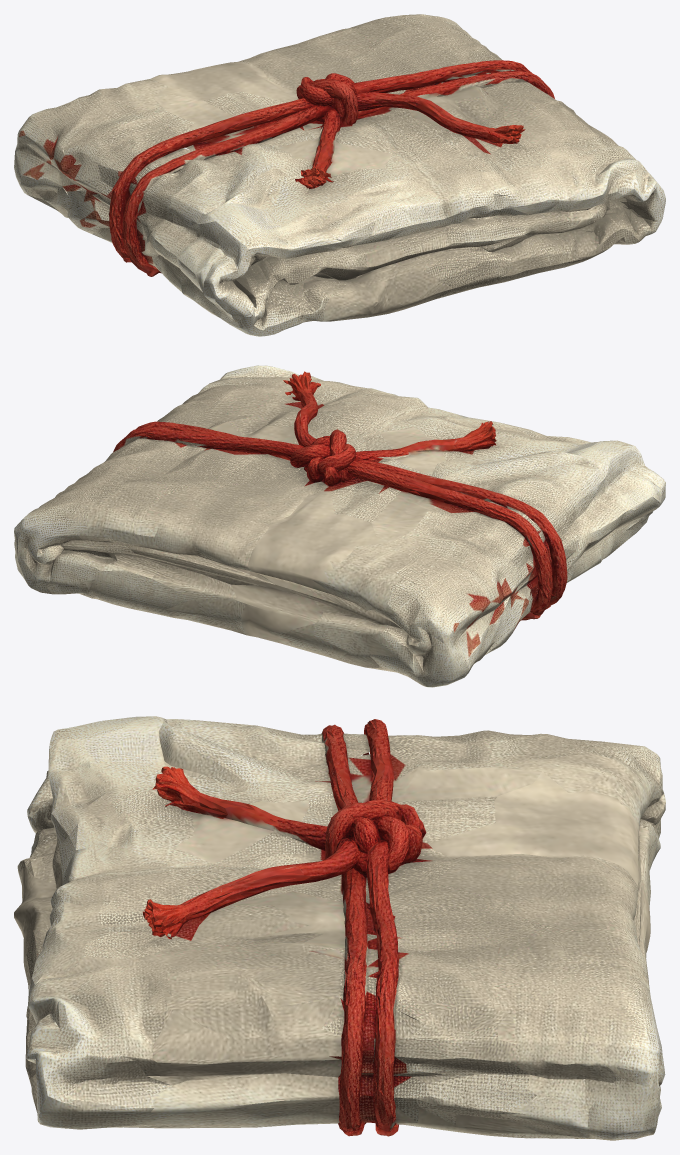
The model's file is w51keepsake.glb.
3 views of the same model, one above another, from view 1: azimuth 30°, elevation 25°; view 2: azimuth 150°, elevation 25°; view 3: azimuth 270°, elevation 25° (orthographic). The views are drawn at different scales.
Parts seen in each view (by area): view 1: output_unwrapped; view 2: output_unwrapped; view 3: output_unwrapped.
Boxes of the visible parts, x1,y1,x2,y2 form: output_unwrapped: [14, 14, 665, 336]; output_unwrapped: [14, 365, 665, 687]; output_unwrapped: [14, 716, 665, 1140].
Size of the model in its own units: 0.07 by 0.0205 by 0.0605.
Materials: 1 (1 with a texture image).
